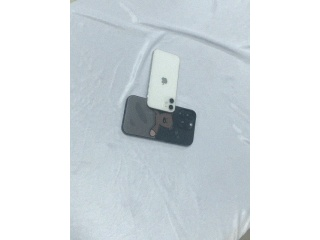phone: (121, 94, 196, 147), (146, 50, 181, 113)
